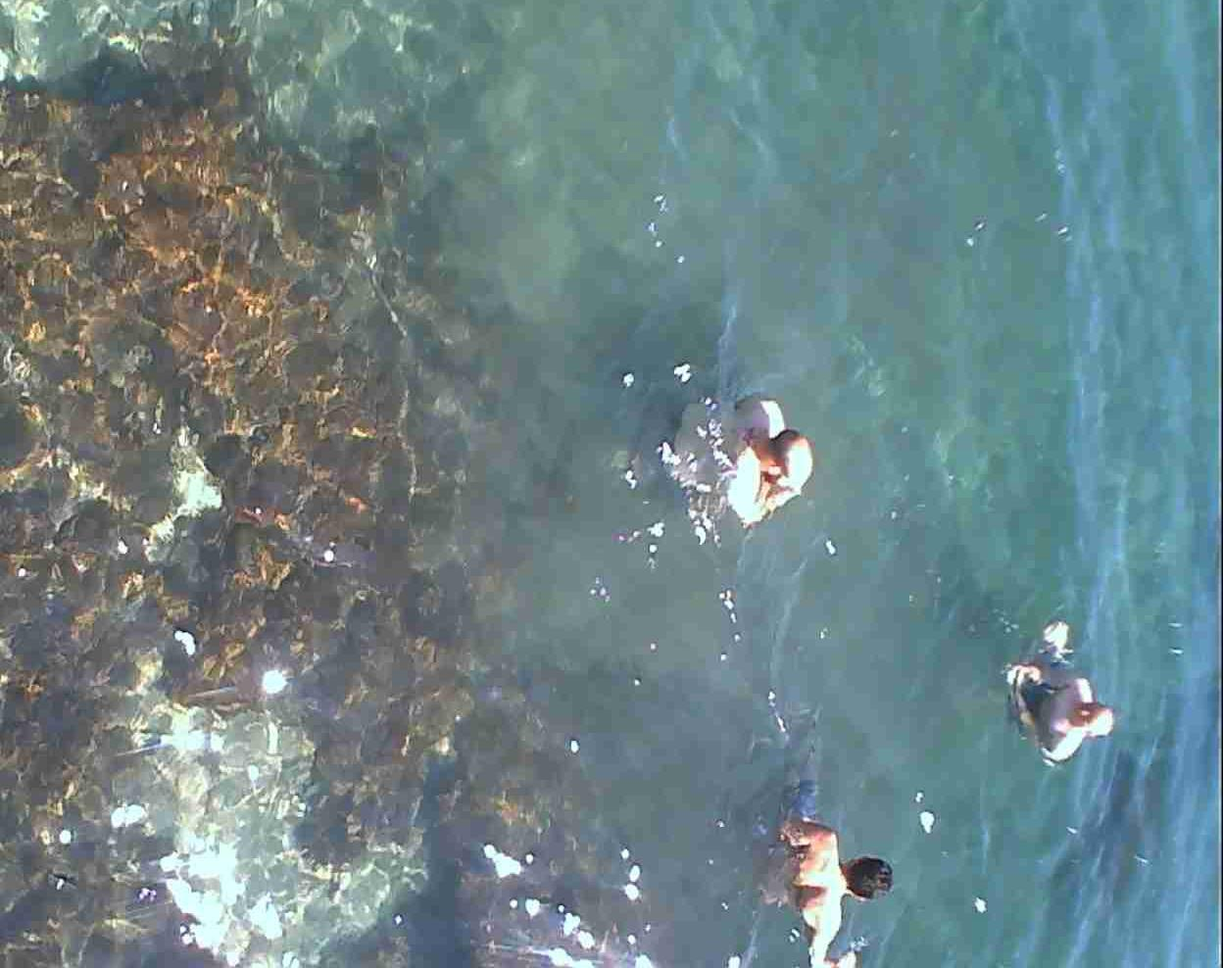swimmer: (671, 391, 815, 546), (1004, 613, 1112, 778), (1, 1, 1, 1)
